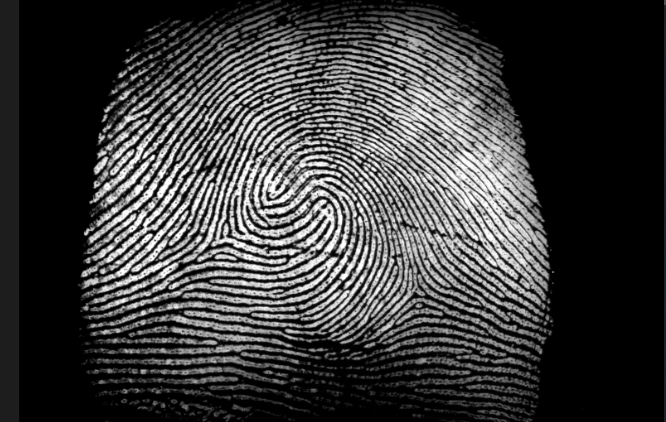deltas: (188, 209, 249, 258), (396, 275, 444, 318)
nucleo: (256, 165, 363, 242)
